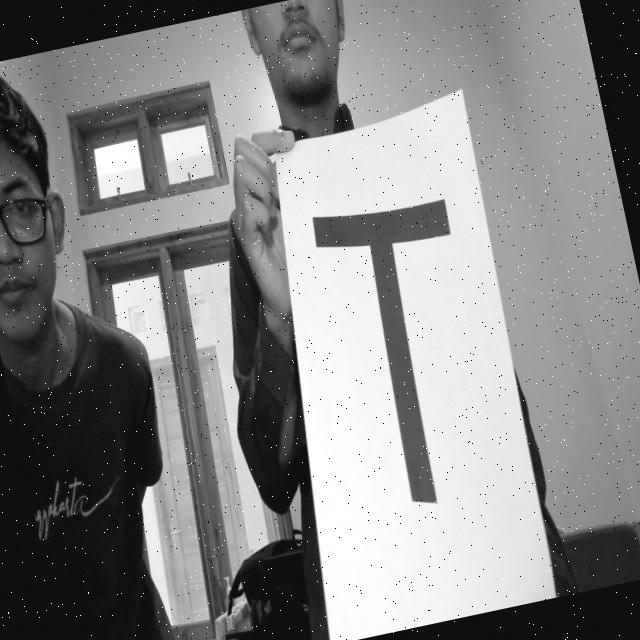t: (282, 162, 532, 560)
